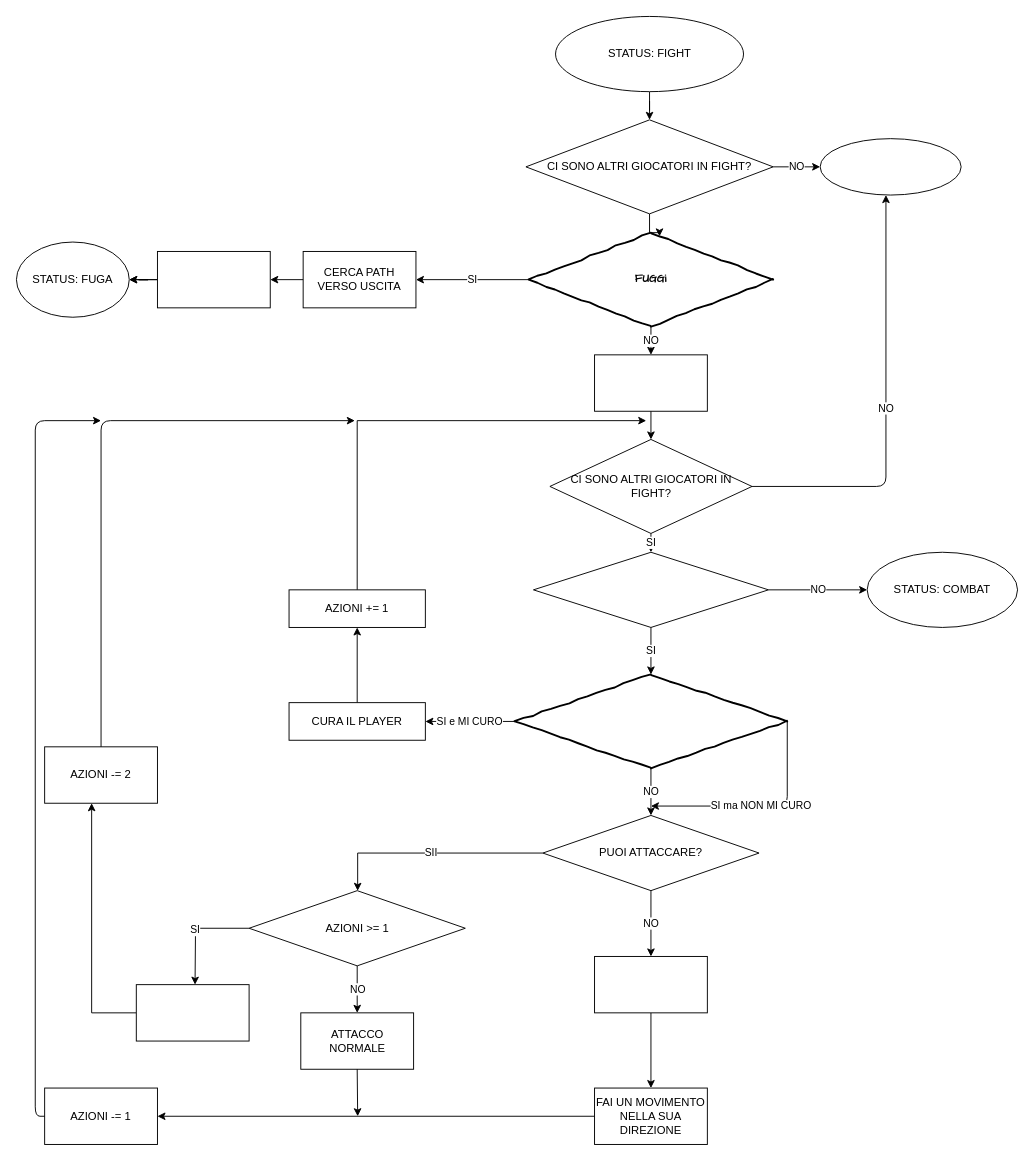
Some shapes in this 1034 by 1161 pixel diagram are drawn without their labels. The centre of each missing label's shape, as x and y in pixels:
3 o 4 MOVIMENTI VERSO L'USCITA: pixel 213 279
ATTACCO PRECISO: pixel 192 1012
AZIONI := 2: pixel 650 382
AZIONI > 0: pixel 650 589
CALCOLA IL PERCORSO PER IL PLAYER PIU VICINO: pixel 650 984
HAI POCA VITA and HAI POZIONI: pixel 650 721
STATUS: MOVEMENT: pixel 890 166
